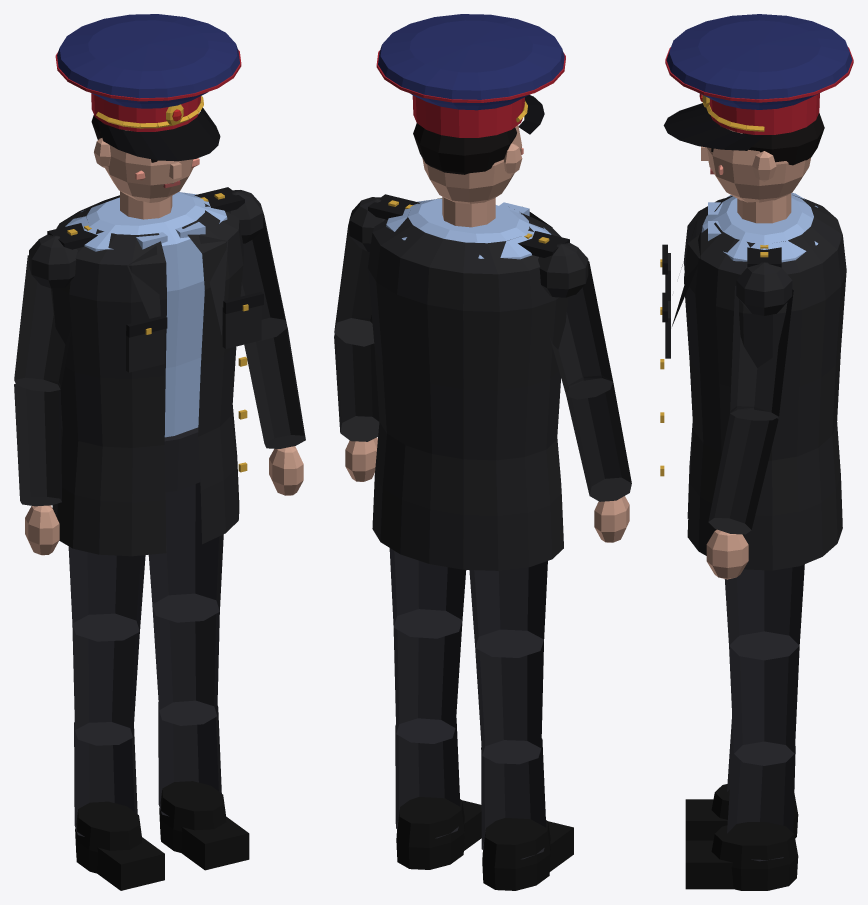
Rendered from NPC_Aktan.obj.
The picture shows the model from 3 angles, left to right: view 1: azimuth 30°, elevation 25°; view 2: azimuth 150°, elevation 25°; view 3: azimuth 270°, elevation 25°; orthographic projection. The views are drawn at different scales.
Parts seen in each view (by area): view 1: NPC_Aktan; view 2: NPC_Aktan; view 3: NPC_Aktan.
Part boxes in pixels (x1=…): NPC_Aktan: x1=14, y1=14, x2=305, y2=890; NPC_Aktan: x1=334, y1=14, x2=631, y2=890; NPC_Aktan: x1=660, y1=14, x2=853, y2=890.
Size of the model in its own units: 0.6698 by 1.83 by 0.394.
